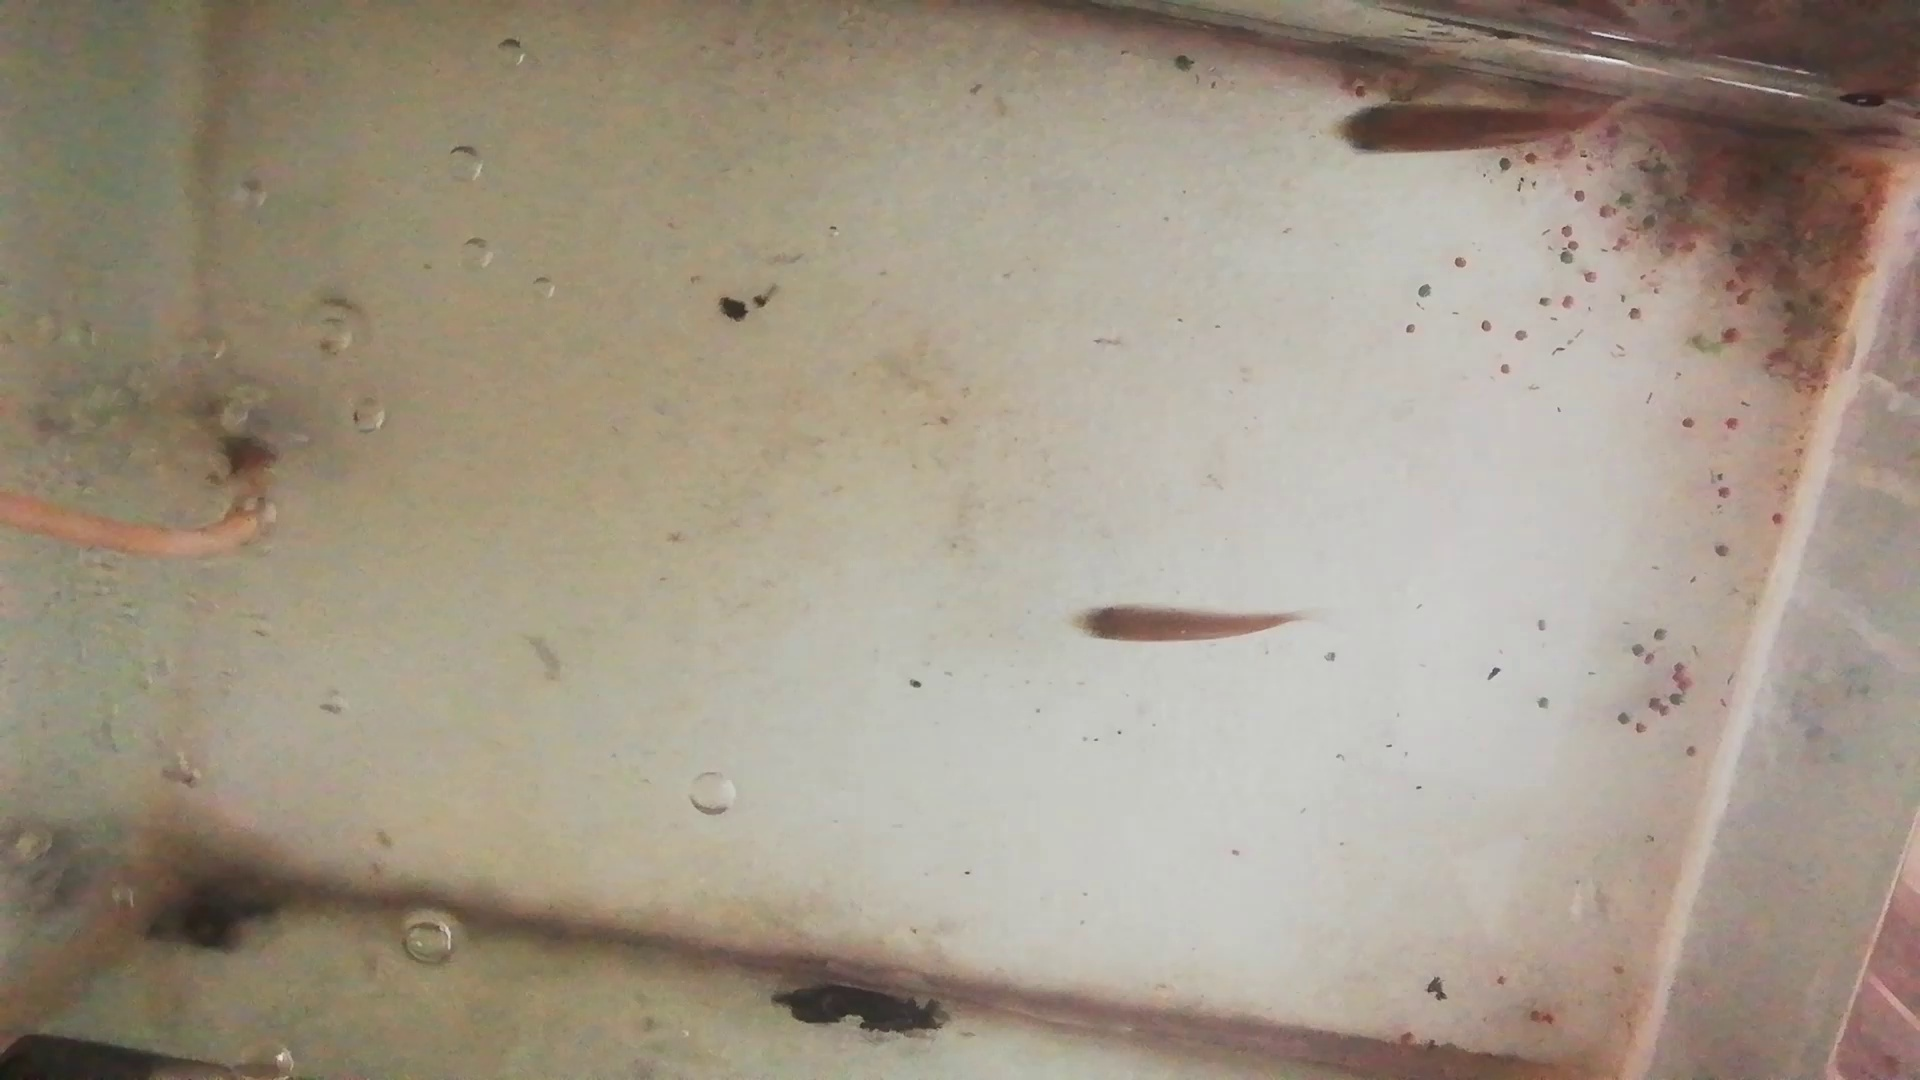fish: (1332, 98, 1607, 160), (1069, 603, 1302, 647)
